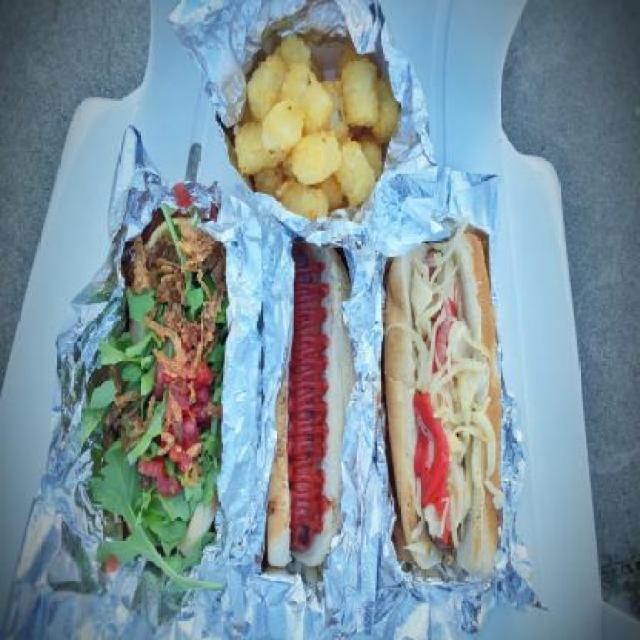Salad: (74, 203, 230, 594), (403, 236, 499, 561)
